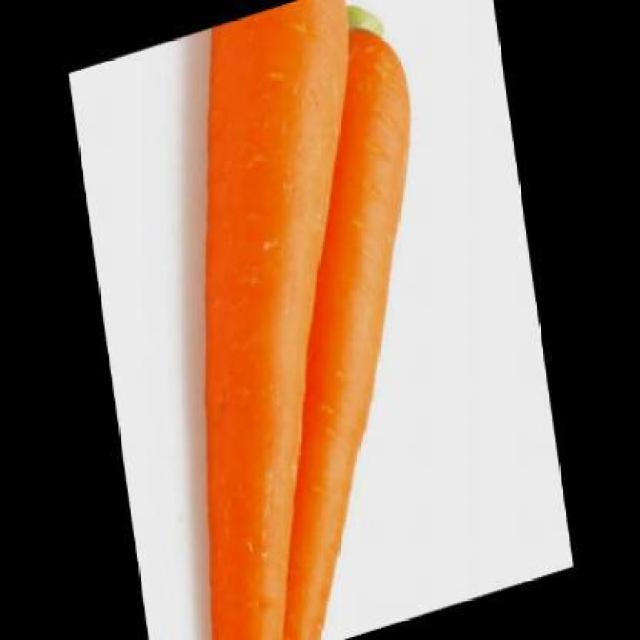carrot: (162, 11, 480, 638), (122, 0, 434, 638)
